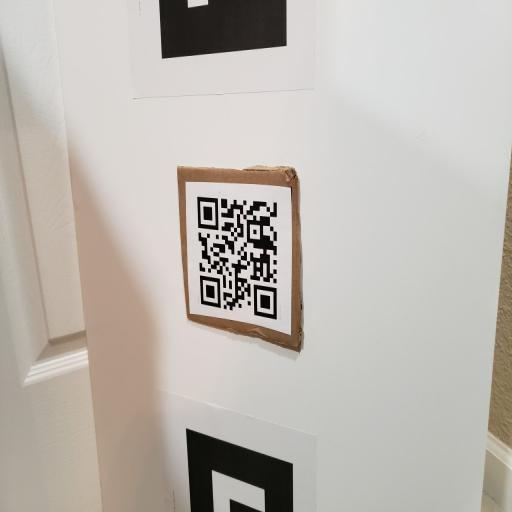qr_code: (196, 195, 278, 321)
